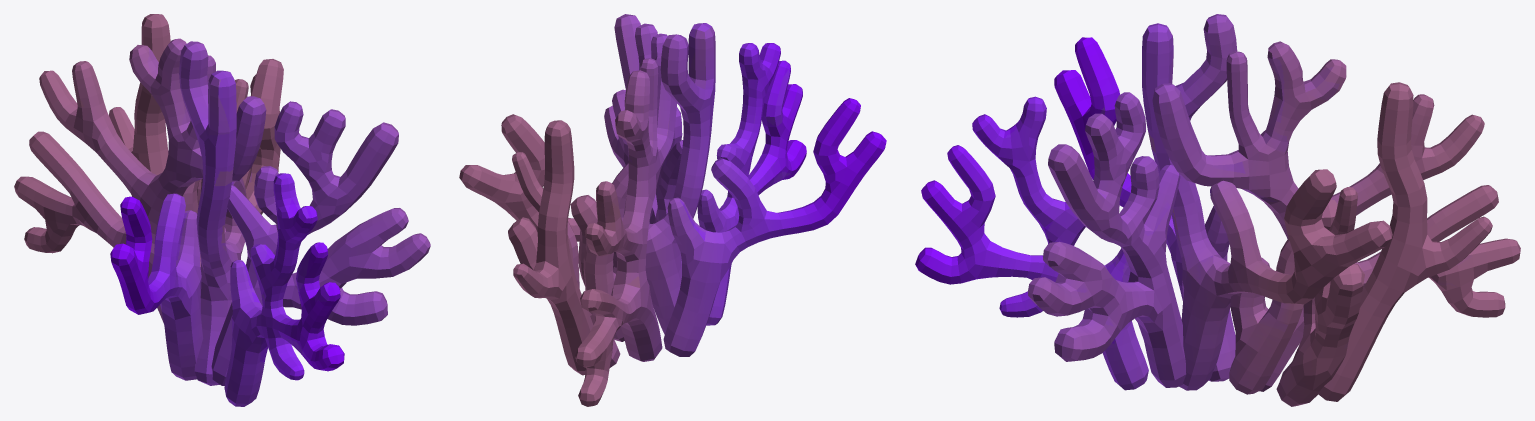
3 renders of one model, left to right at view 1: azimuth 30°, elevation 25°; view 2: azimuth 150°, elevation 25°; view 3: azimuth 270°, elevation 25°, orthographic. The views are drawn at different scales.
Visible parts, largest first — view 1: coral; view 2: coral; view 3: coral.
Boxes of the visible parts, <box> form: coral: <box>14,14,430,406</box>; coral: <box>459,14,886,406</box>; coral: <box>915,14,1520,406</box>.
Bounding box in the file's own units: 163 × 170 × 253.
Materials: 1 (1 with a texture image).
